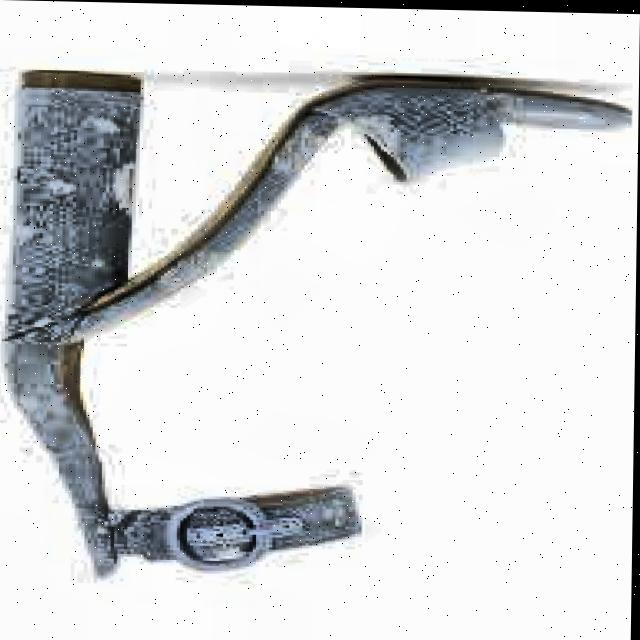shoes: (0, 64, 632, 619)
